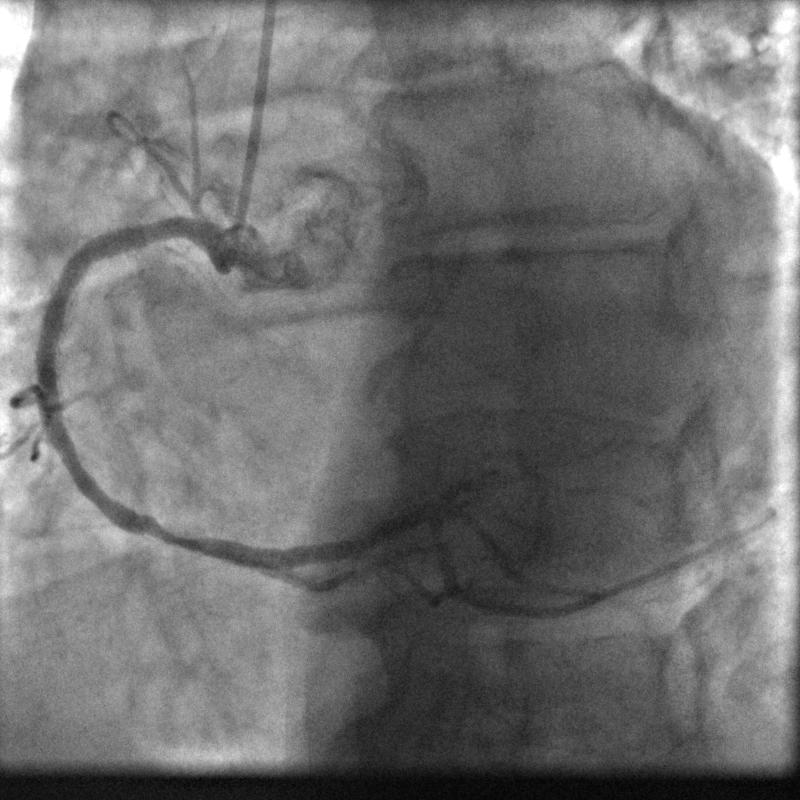Stenosis: (132, 511, 194, 552)
